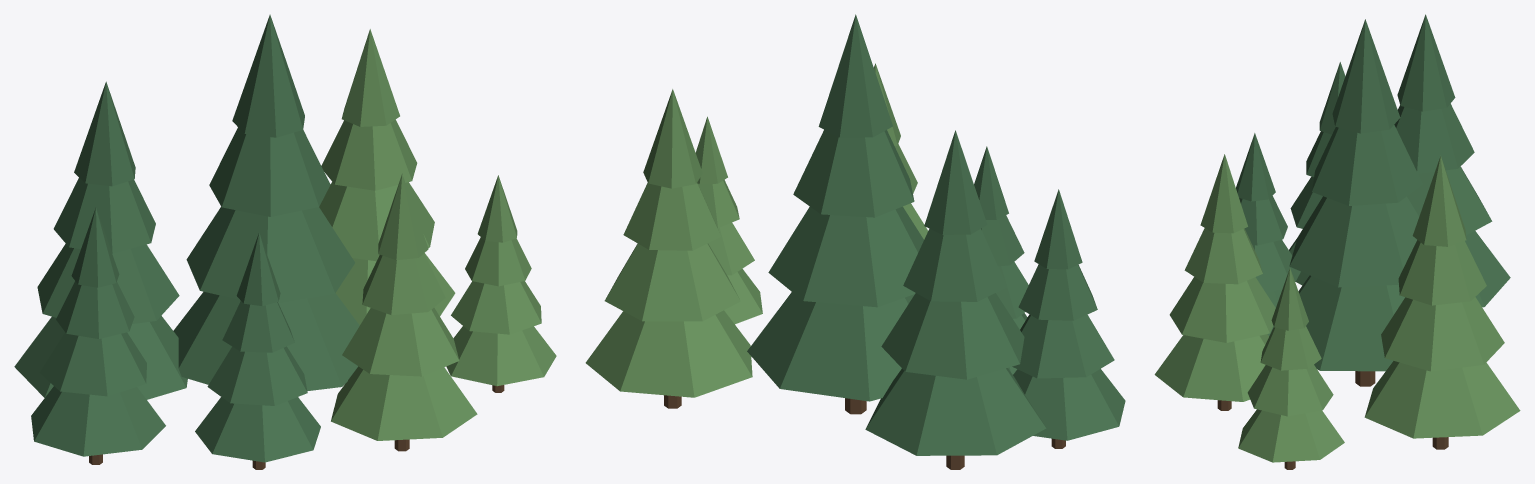
File: pine_cluster.glb
3 views of the same model, side by side, from view 1: azimuth 30°, elevation 25°; view 2: azimuth 150°, elevation 25°; view 3: azimuth 270°, elevation 25° (orthographic). The views are drawn at different scales.
Parts seen in each view (by area): view 1: pine_cluster; view 2: pine_cluster; view 3: pine_cluster.
Boxes of the visible parts, x1,y1,x2,y2 form: pine_cluster: (14, 14, 556, 469); pine_cluster: (585, 14, 1125, 469); pine_cluster: (1154, 14, 1520, 469).
Bounding box in the file's own units: 10.34 × 8 × 7.29.
